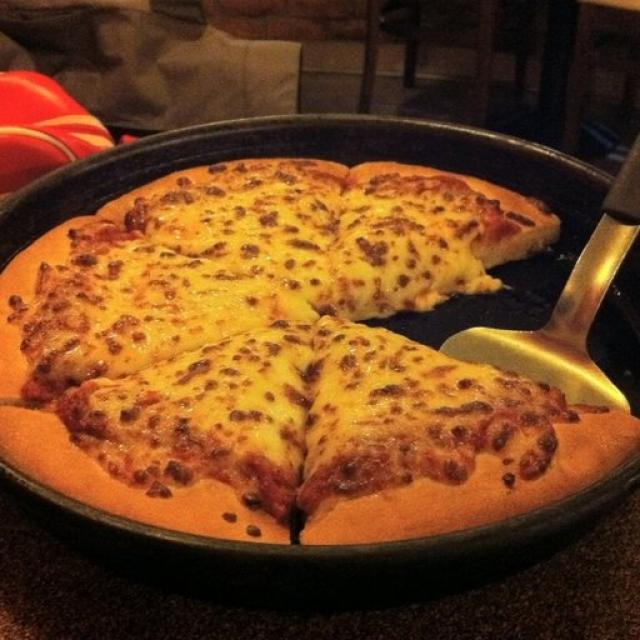Pizza: (0, 159, 640, 546)
